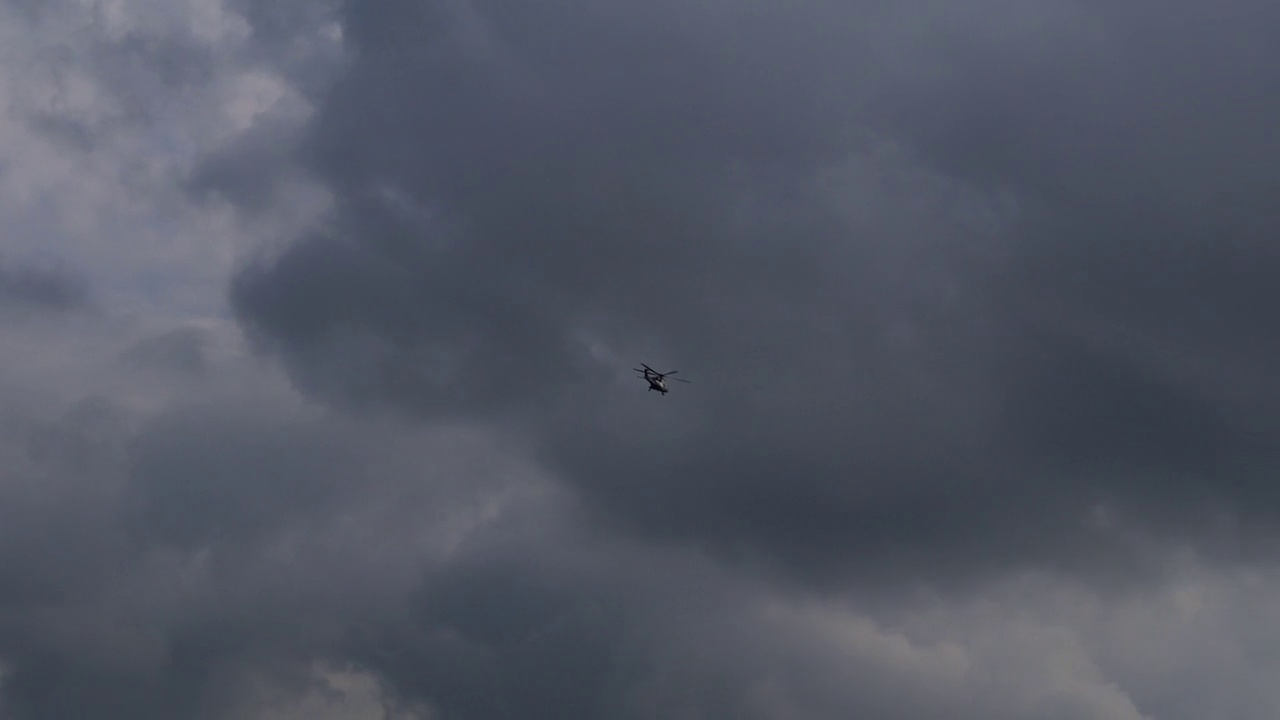heli: (632, 361, 692, 396)
